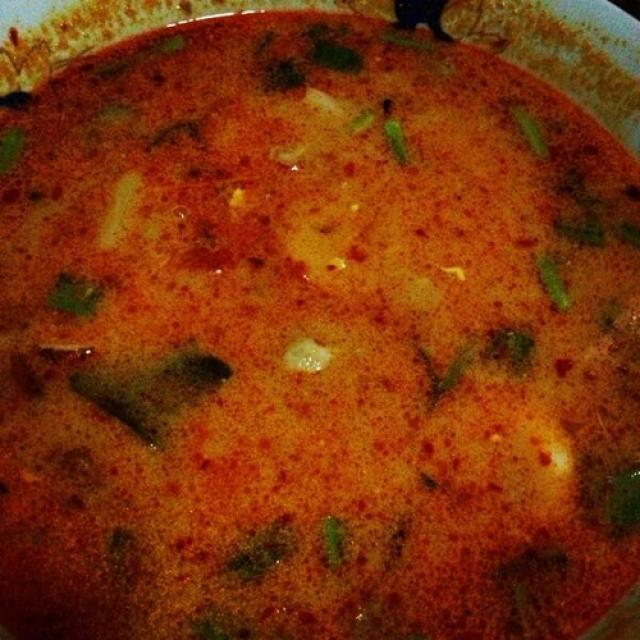汤锅炖物: (8, 34, 631, 628)
